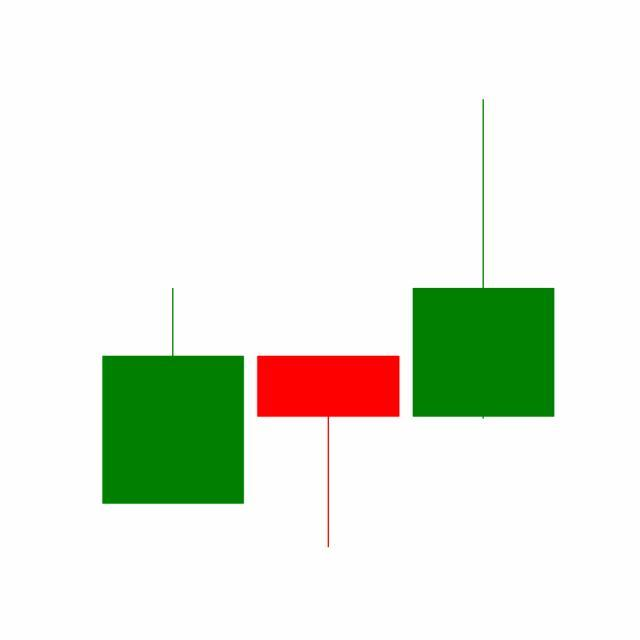Hammer: (250, 354, 407, 550)
